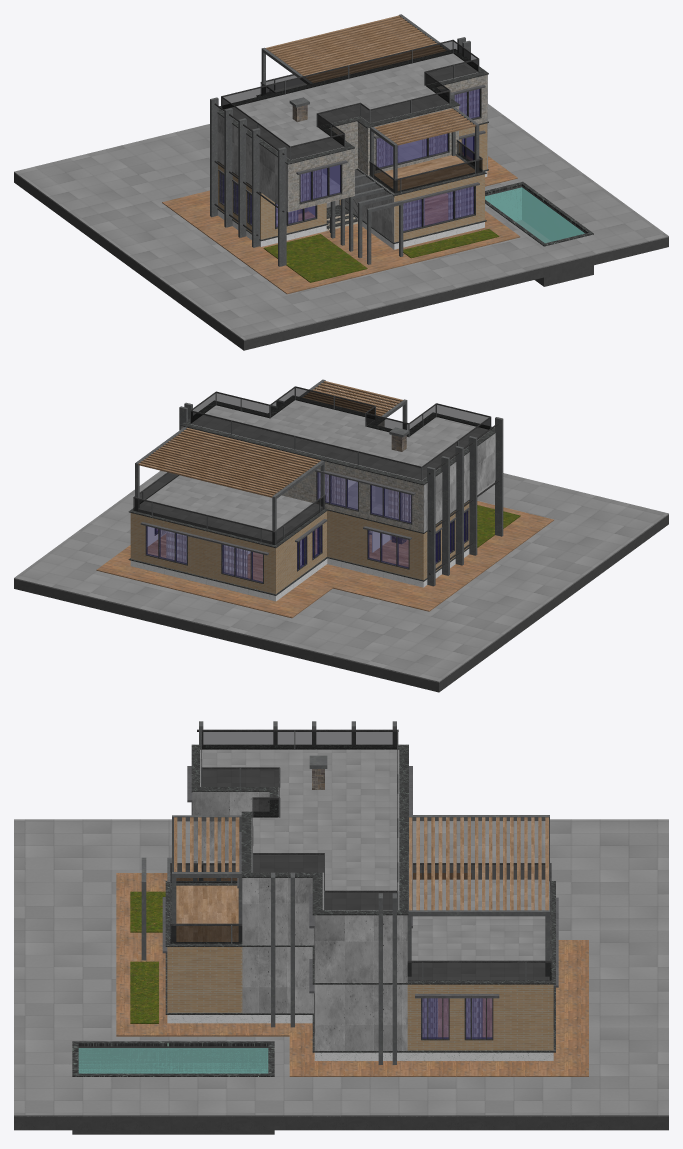
The picture shows the model from 3 angles, top to bottom: view 1: azimuth 30°, elevation 25°; view 2: azimuth 150°, elevation 25°; view 3: azimuth 270°, elevation 25°; orthographic projection. The views are drawn at different scales.
Visible parts, largest first — view 1: Rectangle002, Line006, Line010, Line042, Rectangle001, Line002, Line001, Box002, Line041, Box005, Box003, Object002_18 - Rubber_0 (+24 smaller); view 2: Rectangle002, Line006, Line010, Line001, Line042, Rectangle001, Box034, Line002, Line041, Line038, Object002_18 - Rubber_0, Line011 (+23 smaller); view 3: Rectangle002, Line006, Line010, Line001, Object005_18 - Rubber_0, Box034, Rectangle001, Object004_18 - Rubber_0, Line042, Box002, Line041, Box003 (+25 smaller).
Part boxes in pixels (<box>): Rectangle002: <box>14,104,668,340</box>; Line006: <box>222,53,477,160</box>; Line010: <box>162,156,520,294</box>; Line042: <box>222,41,478,159</box>; Rectangle001: <box>14,173,668,350</box>; Line002: <box>288,75,487,211</box>; Line001: <box>218,123,487,242</box>; Box002: <box>485,186,593,286</box>; Line041: <box>217,49,488,164</box>; Box005: <box>263,234,367,282</box>; Box003: <box>485,187,584,243</box>; Object002_18 - Rubber_0: <box>217,113,288,211</box>; Rectangle002: <box>14,470,668,682</box>; Line006: <box>191,400,490,480</box>; Line010: <box>96,501,553,618</box>; Line001: <box>130,501,469,594</box>; Line042: <box>191,388,490,479</box>; Rectangle001: <box>14,515,668,692</box>; Box034: <box>138,475,322,543</box>; Line002: <box>181,420,423,532</box>; Line041: <box>180,395,495,485</box>; Line038: <box>133,473,325,544</box>; Object002_18 - Rubber_0: <box>423,433,495,532</box>; Line011: <box>130,549,469,601</box>; Rectangle002: <box>14,819,668,1116</box>; Line006: <box>200,749,399,910</box>; Line010: <box>116,873,588,1076</box>; Line001: <box>167,947,553,1050</box>; Object005_18 - Rubber_0: <box>314,915,407,1050</box>; Box034: <box>407,879,549,980</box>; Rectangle001: <box>14,1116,668,1130</box>; Object004_18 - Rubber_0: <box>242,878,314,1013</box>; Line042: <box>202,731,396,909</box>; Box002: <box>72,1046,274,1134</box>; Line041: <box>191,744,408,915</box>; Box003: <box>78,1048,268,1073</box>.
Size of the model in its own units: 30.42 by 11.01 by 28.48.
Materials: 24 (19 with a texture image).
